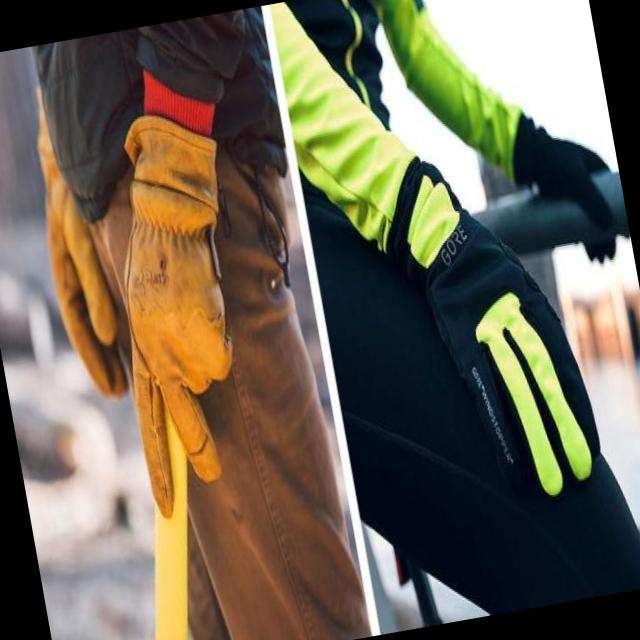Gloves: (84, 92, 281, 520), (384, 147, 605, 503), (20, 105, 133, 402), (522, 92, 628, 280)
